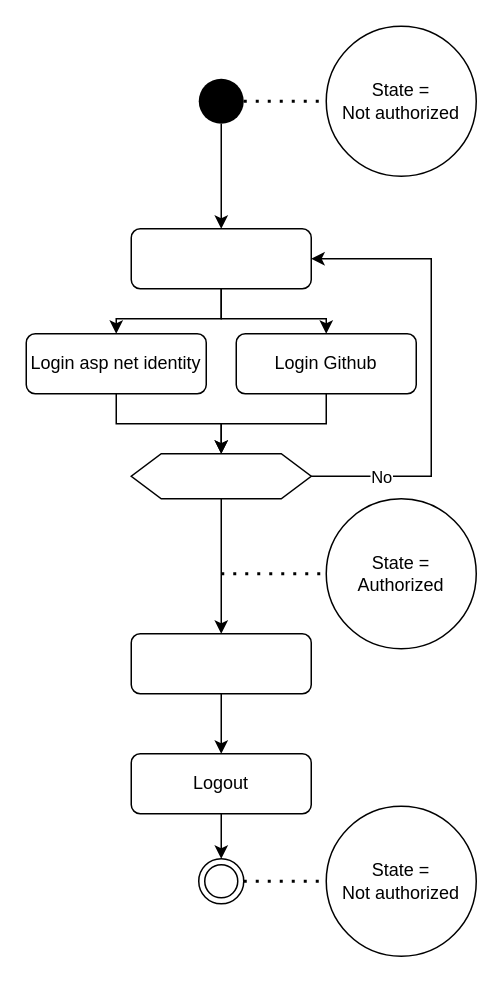
Some shapes in this 503 by 983 pixel diagram are drawn without their labels. The shapes that lost their labels are listed below. From the top down, each one's box as (x1, y1, x2, y2) in pixels, then its label:
(130, 227, 311, 289): Display public timeline
(130, 452, 311, 499): Login Succesful?
(130, 632, 311, 694): Display private timeline
